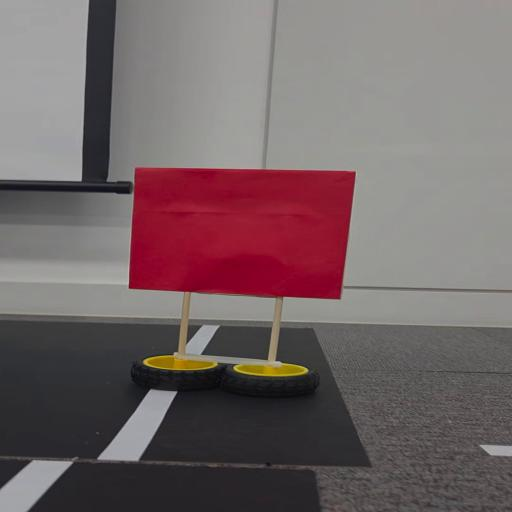Sign_A: (123, 156, 370, 402)
